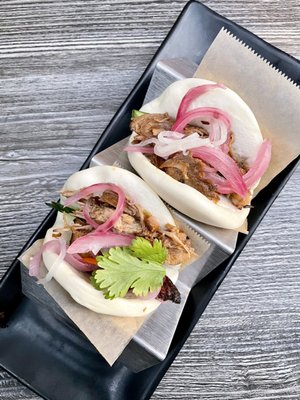soup: (124, 80, 270, 231)
